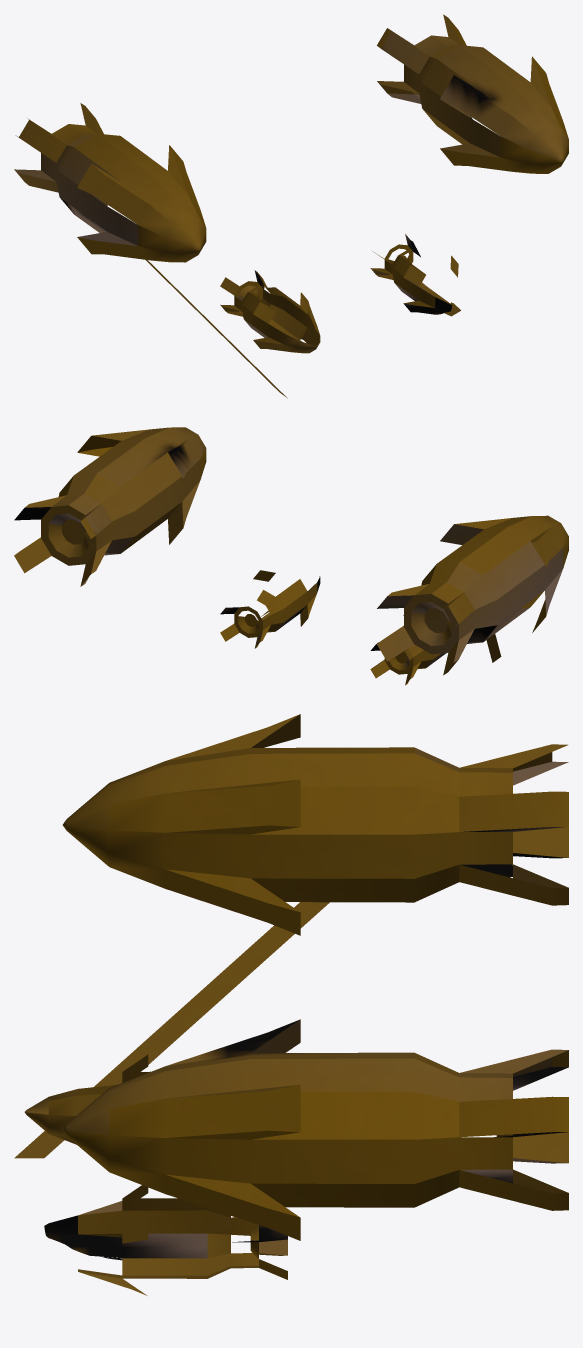
The model's file is SuperTurbo.fbx.
3 views of the same model, one above another, from view 1: azimuth 30°, elevation 25°; view 2: azimuth 150°, elevation 25°; view 3: azimuth 270°, elevation 25° (orthographic). The views are drawn at different scales.
Visible parts, largest first — view 1: SuperTurbo; view 2: SuperTurbo; view 3: SuperTurbo.
Part boxes in pixels (x1,y1,x2,y2): SuperTurbo: (14,14,568,398); SuperTurbo: (14,427,568,685); SuperTurbo: (14,714,568,1295).
Size of the model in its own units: 231 by 105 by 137.
